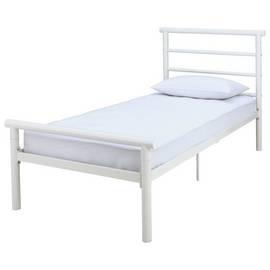bed: (0, 17, 262, 252)
